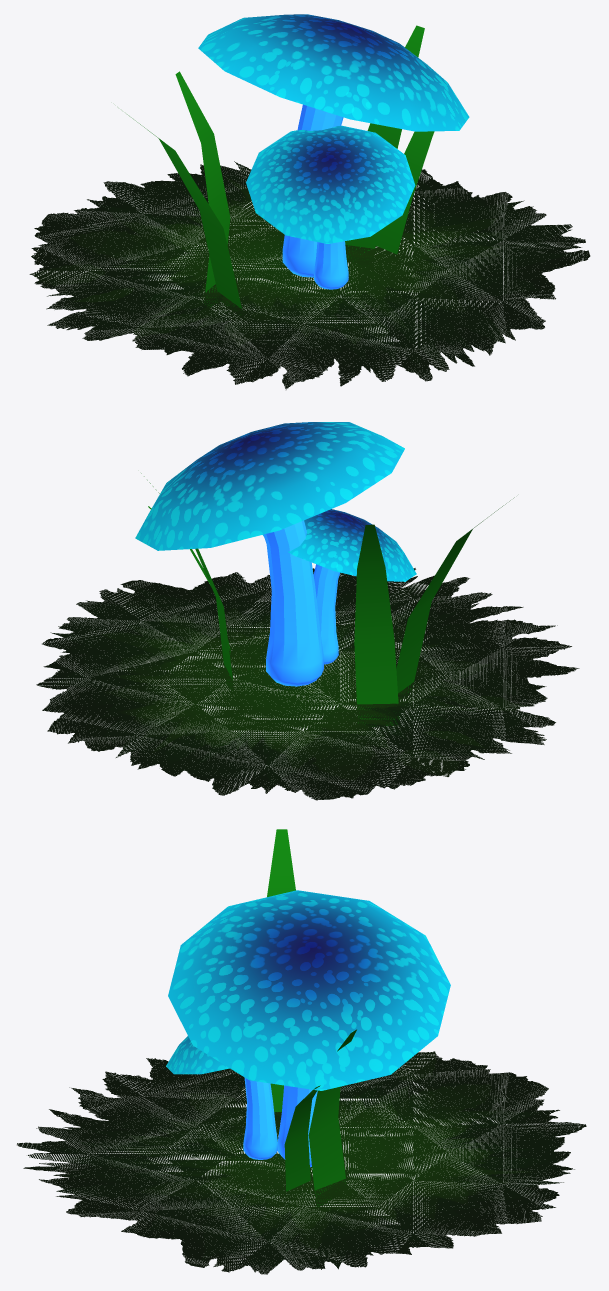
3 renders of one model, top to bottom at view 1: azimuth 30°, elevation 25°; view 2: azimuth 150°, elevation 25°; view 3: azimuth 270°, elevation 25°, orthographic.
Visible parts, largest first — view 1: pDisc1, shroom_caps, shroom_stems, pPlane1, pPlane2, pPlane3, pPlane4; view 2: pDisc1, shroom_caps, shroom_stems, pPlane2, pPlane1, pPlane4; view 3: pDisc1, shroom_caps, shroom_stems, pPlane4, pPlane3, pPlane1.
Boxes of the visible parts, x1,y1,x2,y2 form: pDisc1: (29,161,590,389); shroom_caps: (198,14,469,243); shroom_stems: (282,104,348,289); pPlane1: (127,114,241,314); pPlane2: (175,71,230,307); pPlane3: (372,131,434,254); pPlane4: (345,25,424,261); pDisc1: (36,568,579,800); shroom_caps: (135,422,416,581); shroom_stems: (263,520,340,686); pPlane2: (354,524,399,726); pPlane1: (396,497,514,700); pPlane4: (141,473,233,690); pDisc1: (17,1051,586,1274); shroom_caps: (166,890,450,1090); shroom_stems: (243,1077,317,1167); pPlane4: (308,1029,356,1206); pPlane3: (284,1085,320,1191); pPlane1: (267,829,295,1113).
Size of the model in its own units: 16.42 by 8.22 by 16.42.
Materials: 4 (2 with a texture image).
